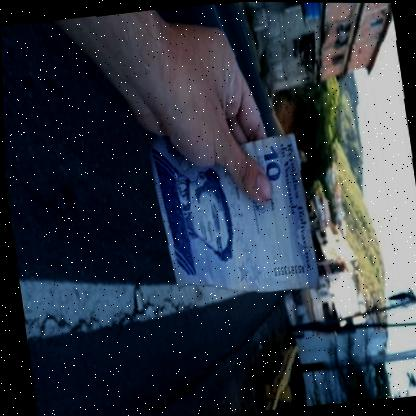ten-front-vef: (145, 118, 319, 304)
